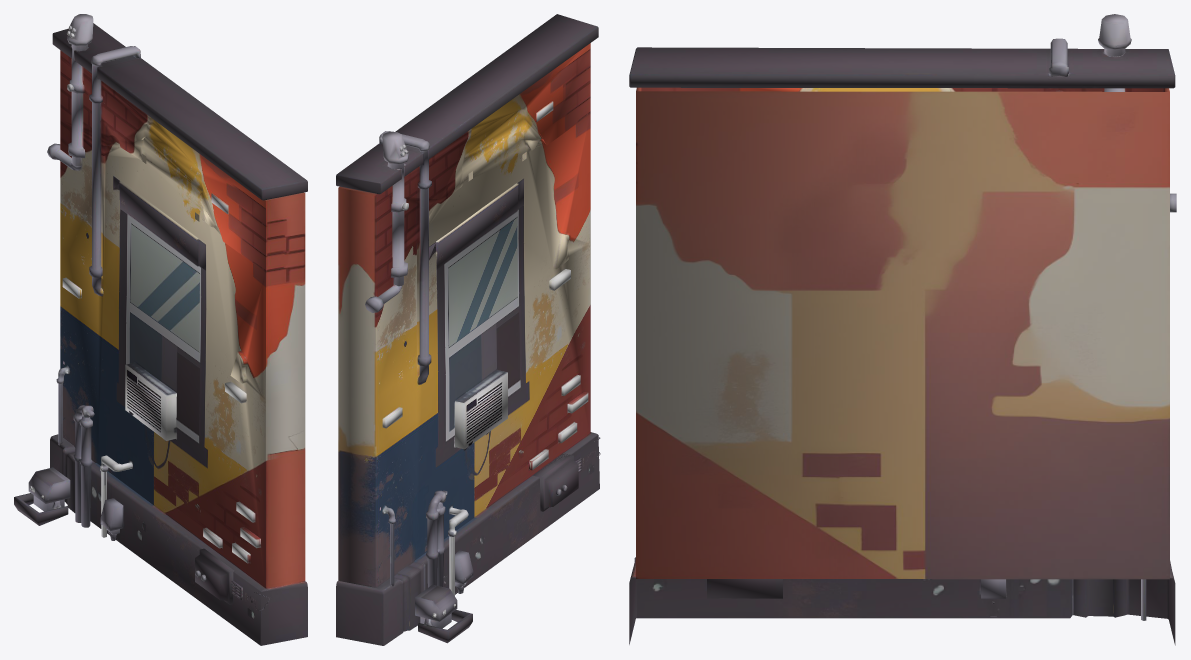
3 renders of one model, left to right at view 1: azimuth 30°, elevation 25°; view 2: azimuth 150°, elevation 25°; view 3: azimuth 270°, elevation 25°, orthographic. The views are drawn at different scales.
Visible parts, largest first — view 1: tripo_node_8ddaf18e-c901-484c-80a1-84797d742c85; view 2: tripo_node_8ddaf18e-c901-484c-80a1-84797d742c85; view 3: tripo_node_8ddaf18e-c901-484c-80a1-84797d742c85.
Boxes of the visible parts, bbox=[...] form: tripo_node_8ddaf18e-c901-484c-80a1-84797d742c85: bbox=[14, 14, 307, 645]; tripo_node_8ddaf18e-c901-484c-80a1-84797d742c85: bbox=[336, 14, 600, 645]; tripo_node_8ddaf18e-c901-484c-80a1-84797d742c85: bbox=[629, 14, 1176, 645].
Bounding box in the file's own units: 0.2051 × 0.998 × 0.8145.
1 material, 1 textured.
